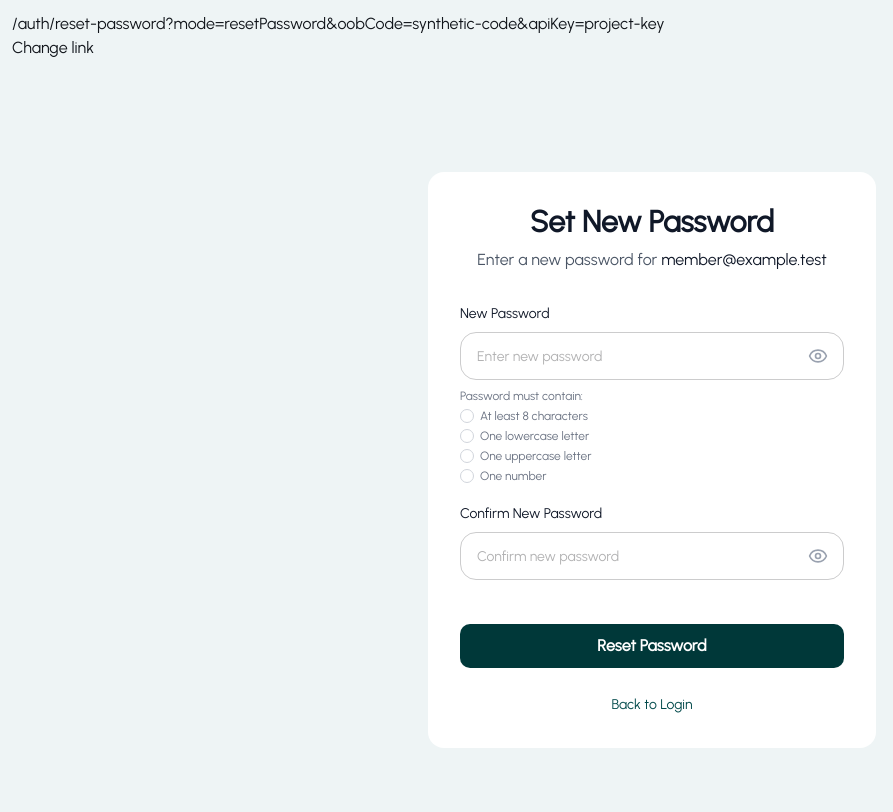
Scenario: preserves Firebase password requirements without marking a valid code unusable
Type "Secure123" into the password field labelled "New Password".
click(652, 356); type("Secure123")  # box [460, 332, 844, 380]
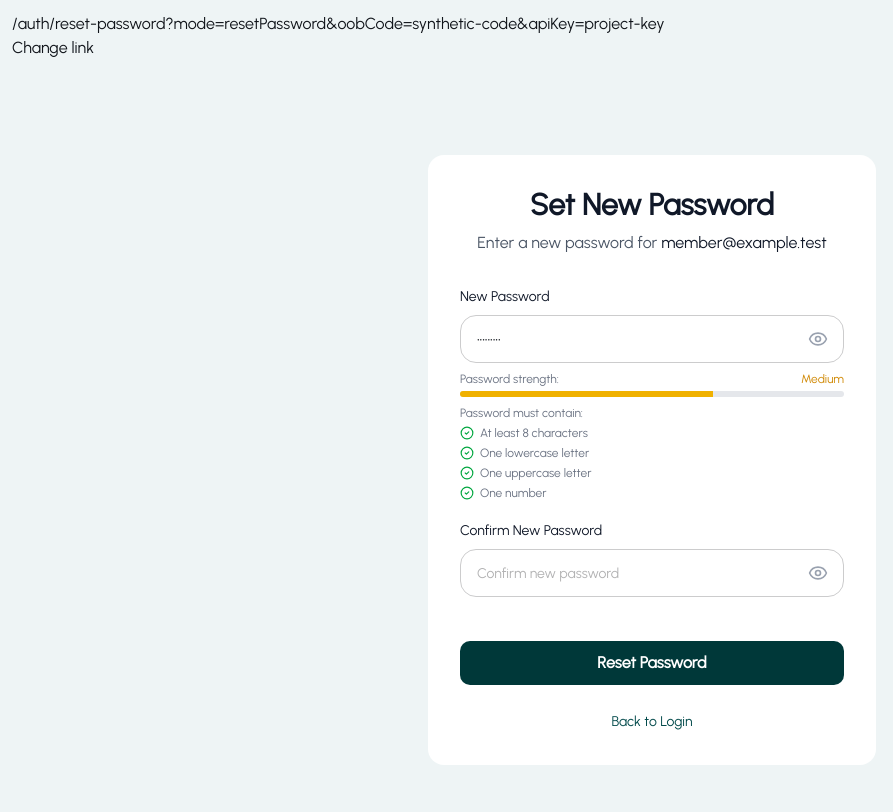
Type "Secure123" into the password field labelled "Confirm New Password".
click(652, 573); type("Secure123")  # box [460, 549, 844, 597]
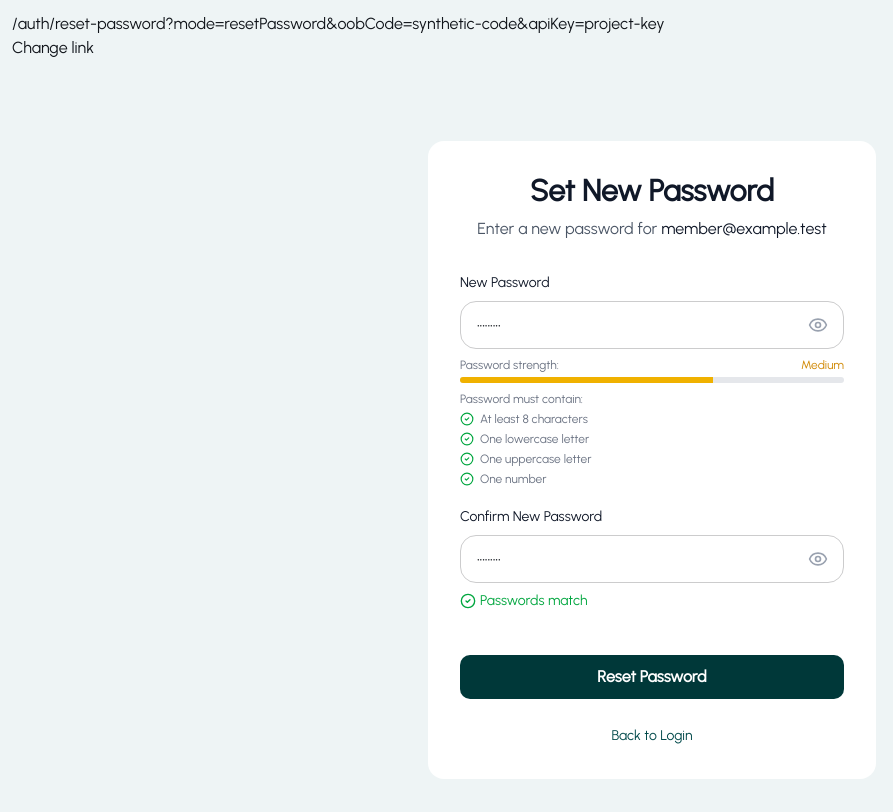
Submit the form labelled "New Password", box [460, 273, 844, 699]
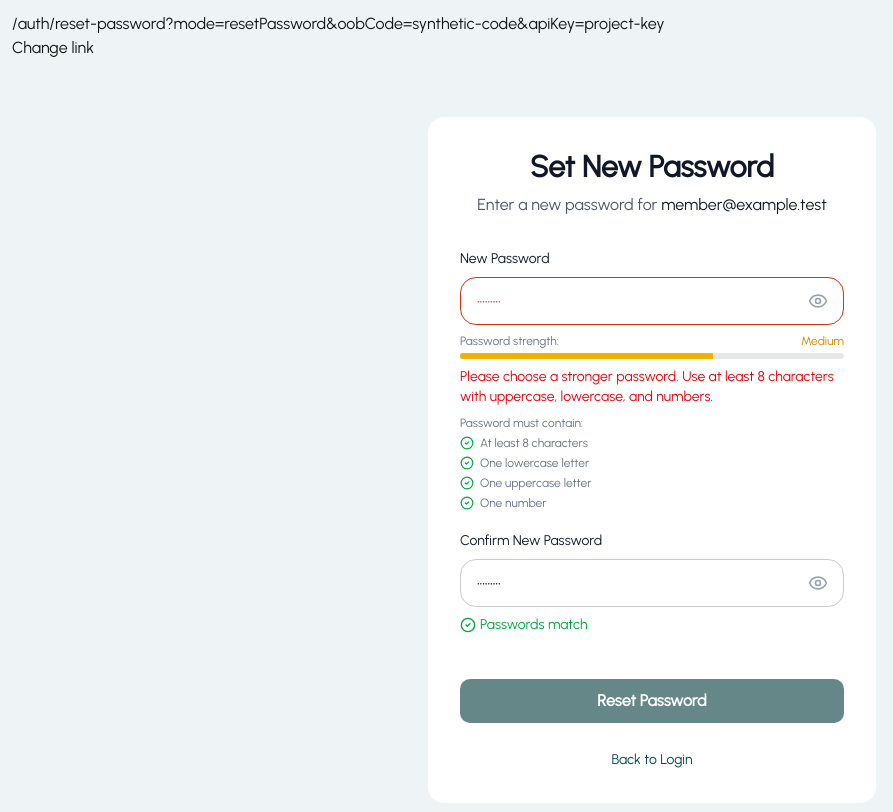
Expected: the text "choose a stronger password" is shown, [460, 368, 834, 405]
